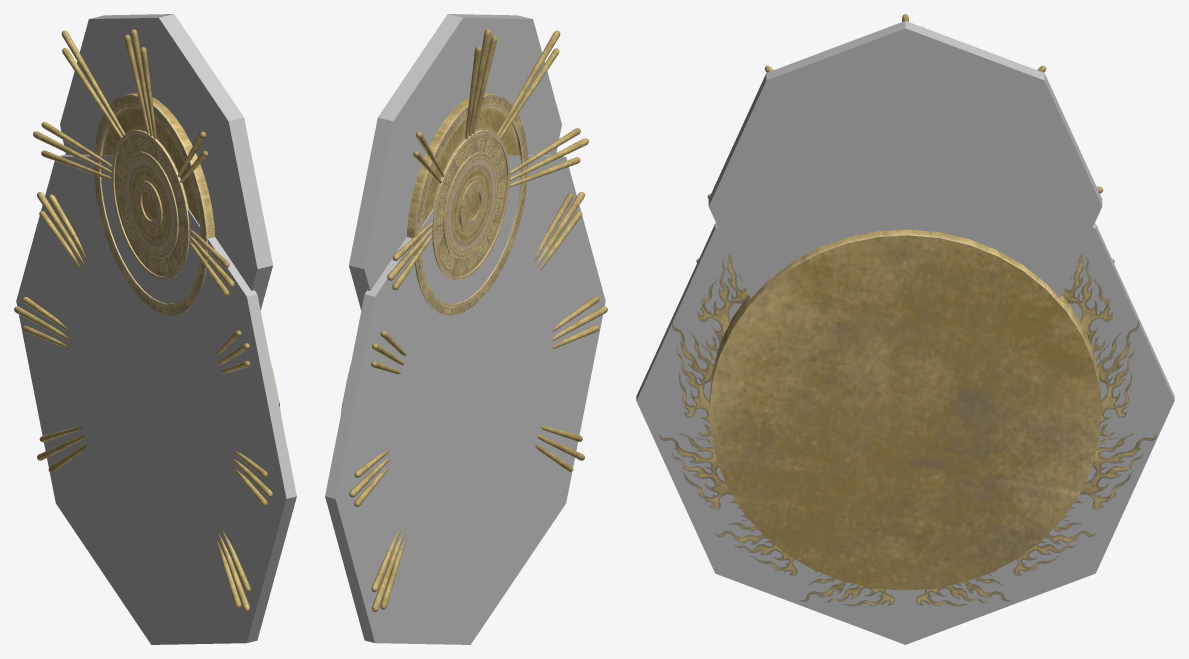
The model's file is SM_Buddha_Back_02.fbx.
3 renders of one model, left to right at view 1: azimuth 30°, elevation 25°; view 2: azimuth 150°, elevation 25°; view 3: azimuth 270°, elevation 25°, orthographic.
Visible parts, largest first — view 1: SM_Buddha_Back_02_ConvexHulls, SM_Buddha_Back_02; view 2: SM_Buddha_Back_02_ConvexHulls, SM_Buddha_Back_02; view 3: SM_Buddha_Back_02, SM_Buddha_Back_02_ConvexHulls.
Boxes of the visible parts, <box> form: SM_Buddha_Back_02_ConvexHulls: <box>16,14,296,644</box>; SM_Buddha_Back_02: <box>14,29,281,611</box>; SM_Buddha_Back_02_ConvexHulls: <box>325,14,605,644</box>; SM_Buddha_Back_02: <box>340,29,607,611</box>; SM_Buddha_Back_02: <box>659,14,1156,623</box>; SM_Buddha_Back_02_ConvexHulls: <box>636,21,1174,644</box>.
Size of the model in its own units: 47.52 by 402 by 514.
2 materials, 1 textured.
